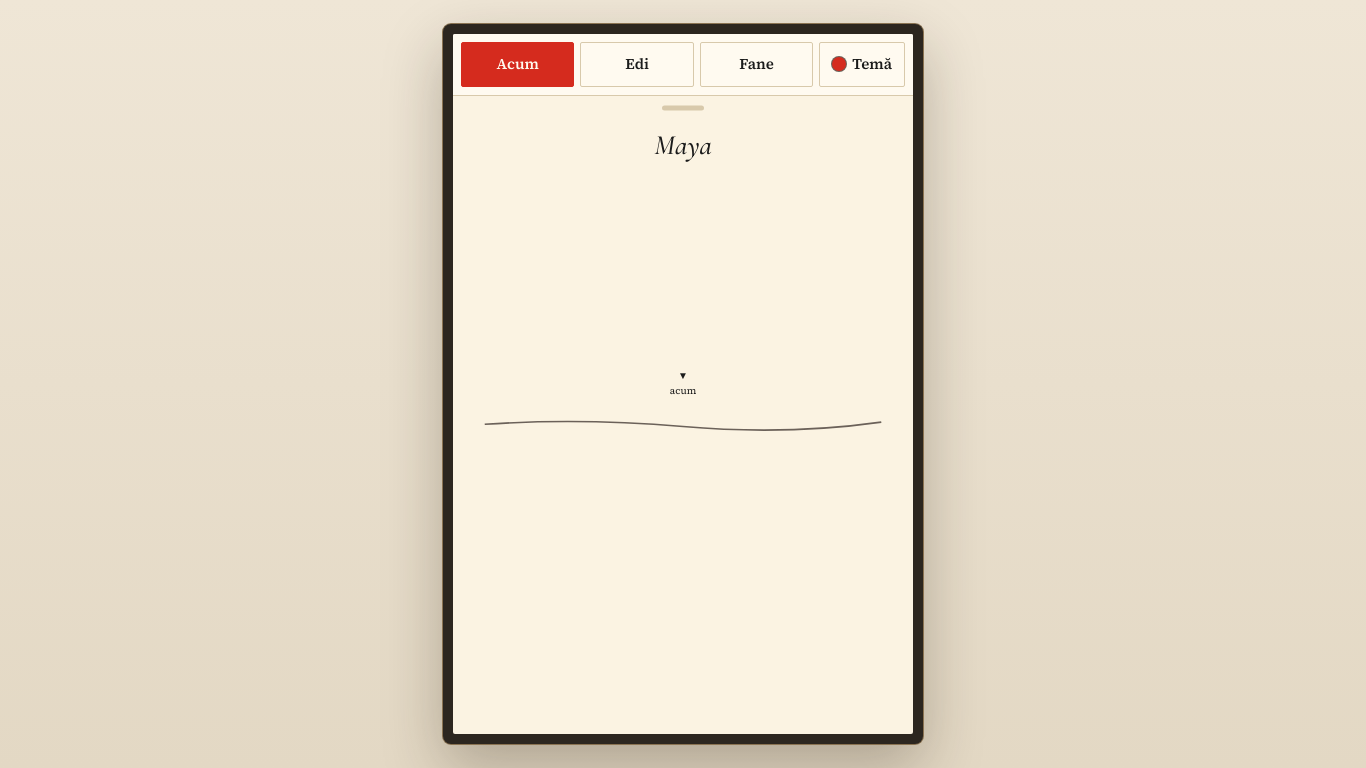
Test: design variant switch › switches the look from the Temă menu, independent of the palette
Later steps or results of the test are not shown.
Click the button "Temă" at (862, 64), box [819,42,905,86]
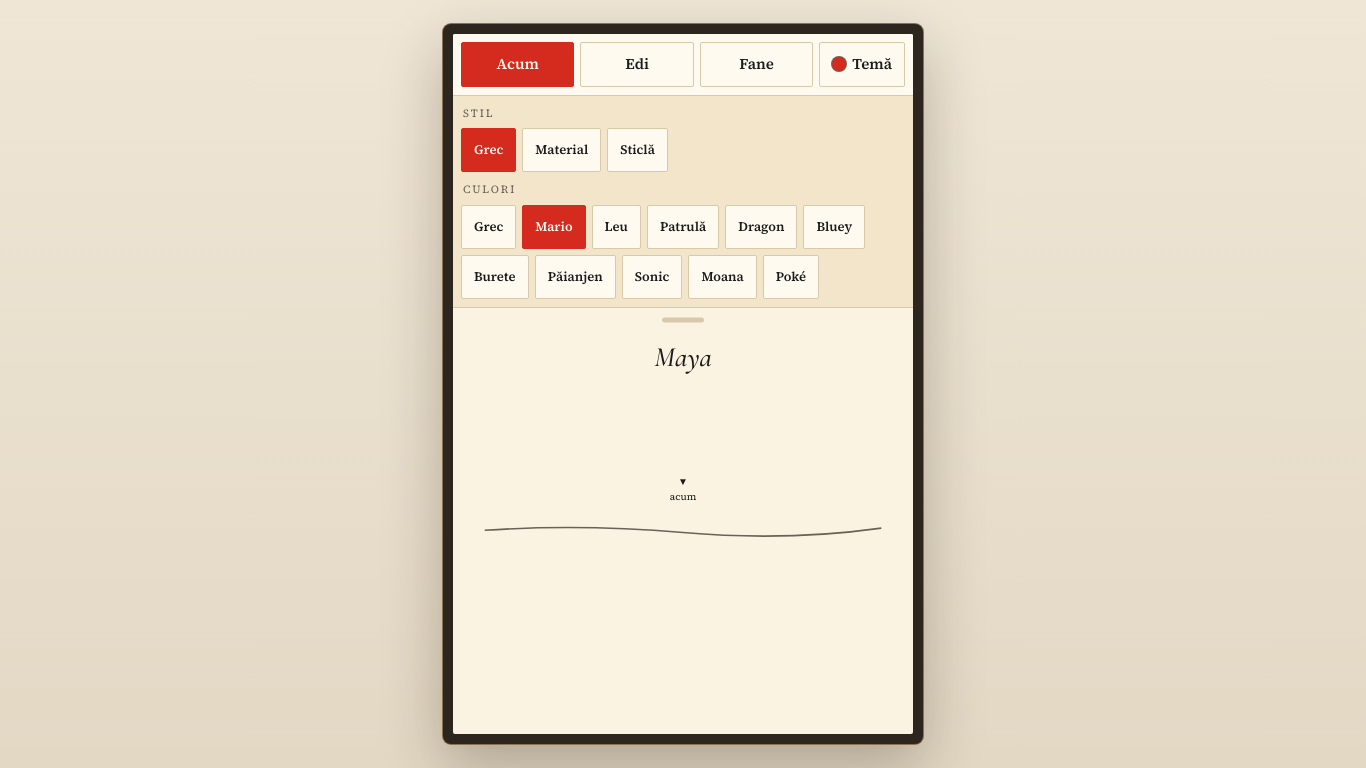
Check: the tab "Grec" is shown, box [461,204,516,248]
